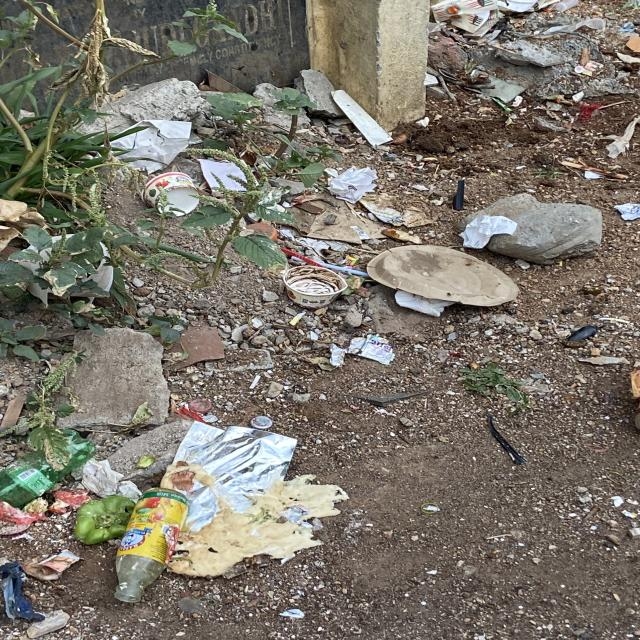chai_nhua: (113, 489, 187, 604), (0, 430, 94, 509)
giay: (367, 245, 519, 306), (109, 119, 191, 173), (290, 205, 385, 244), (80, 460, 141, 502), (460, 215, 518, 248), (20, 551, 79, 582), (328, 166, 377, 203), (197, 158, 245, 191)
giay_goi: (347, 335, 395, 365)
ly_hop_giay: (283, 265, 347, 308), (141, 171, 199, 216)
nhom: (172, 422, 297, 533), (250, 416, 272, 430)
rac_huu_co: (168, 475, 348, 578), (73, 496, 134, 545)
